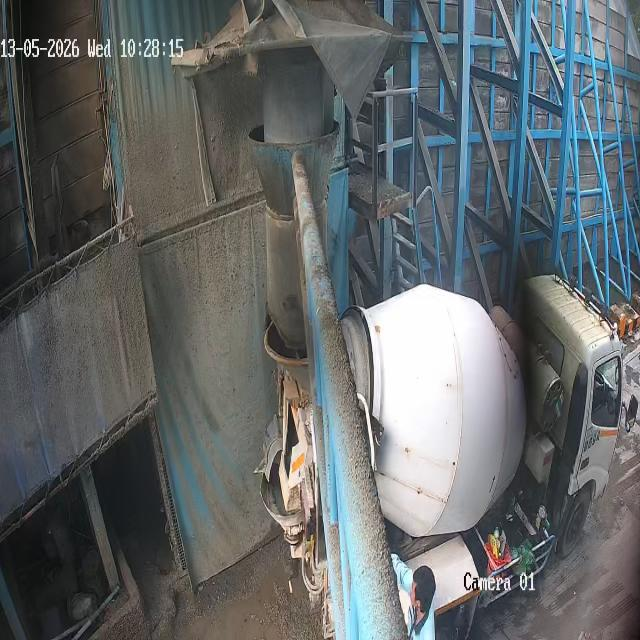cement_mixer_truck: (260, 276, 640, 640)
swing_chute: (246, 122, 341, 350)
